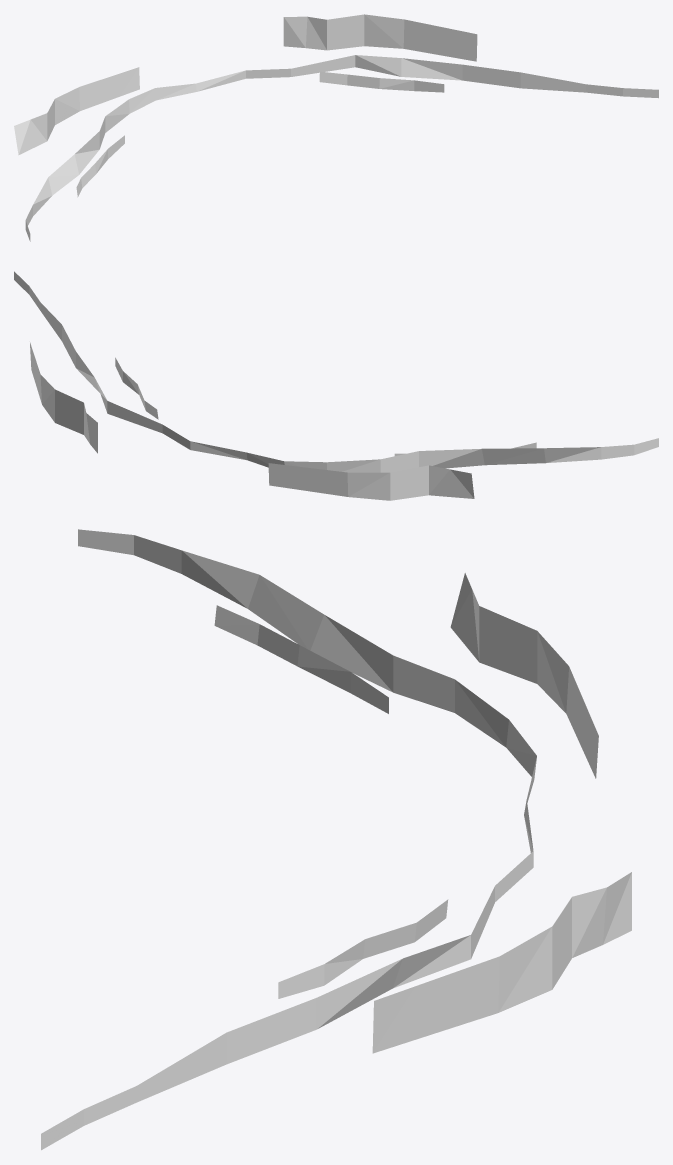
3 renders of one model, top to bottom at view 1: azimuth 30°, elevation 25°; view 2: azimuth 150°, elevation 25°; view 3: azimuth 270°, elevation 25°, orthographic. The views are drawn at different scales.
Visible parts, largest first — view 1: mesh00; view 2: mesh00; view 3: mesh00.
Boxes of the visible parts, x1,y1,x2,y2 form: mesh00: (14, 14, 658, 241); mesh00: (14, 271, 658, 500); mesh00: (41, 529, 631, 1150).
Size of the model in its own units: 63579 by 3258 by 26280.
